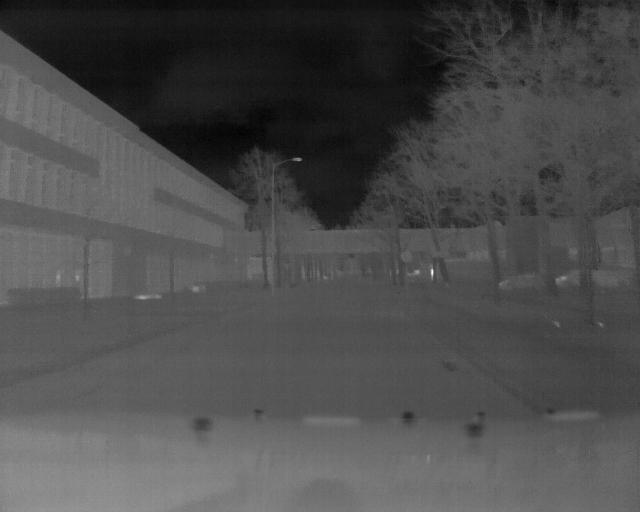car: (559, 268, 618, 295), (497, 272, 543, 292)
